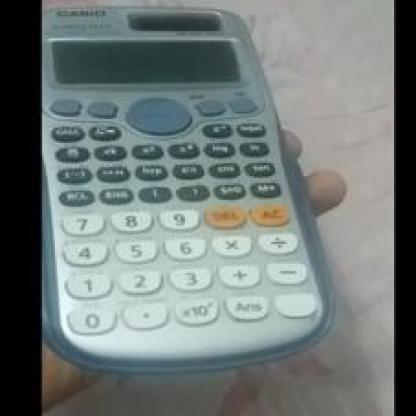calculator: (42, 1, 329, 378)
